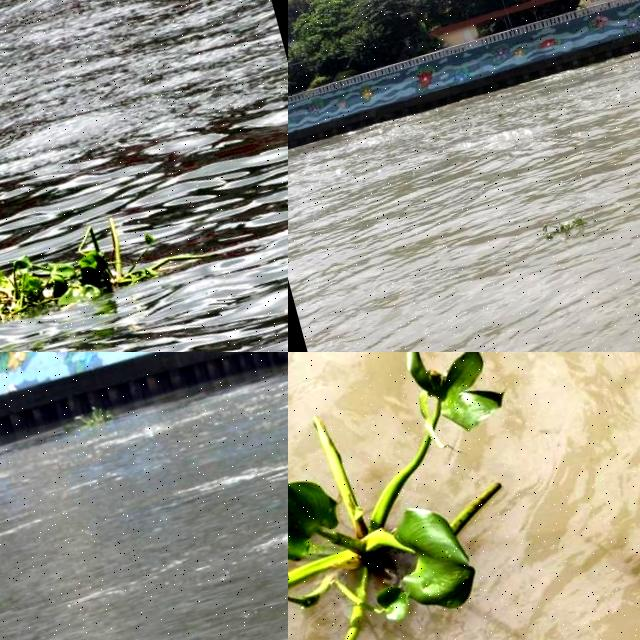water-hyacinth: (289, 353, 587, 640), (1, 202, 181, 341), (533, 203, 590, 247), (68, 397, 120, 436)
